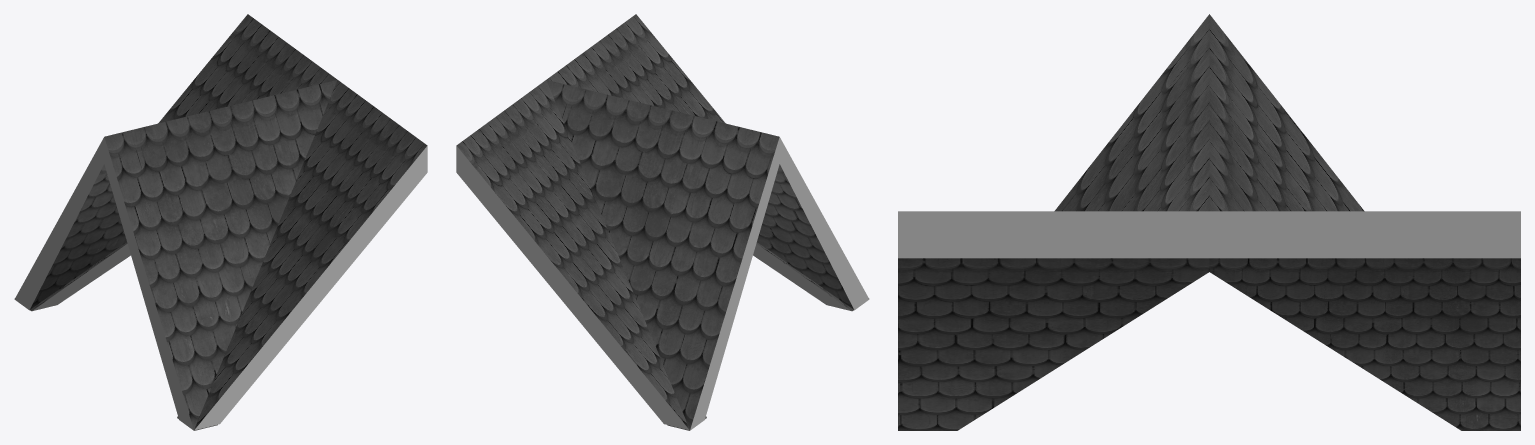
The model's file is SM_FrontWallRoof_A_003.FBX.
3 views of the same model, side by side, from view 1: azimuth 30°, elevation 25°; view 2: azimuth 150°, elevation 25°; view 3: azimuth 270°, elevation 25° (orthographic). The views are drawn at different scales.
Parts seen in each view (by area): view 1: SM_FrontWallRoof_A_003; view 2: SM_FrontWallRoof_A_003; view 3: SM_FrontWallRoof_A_003.
Part boxes in pixels (x1,y1,x2,y2): SM_FrontWallRoof_A_003: [14, 14, 427, 430]; SM_FrontWallRoof_A_003: [456, 14, 869, 430]; SM_FrontWallRoof_A_003: [898, 14, 1520, 430].
Bounding box in the file's own units: 450 × 421 × 600.
